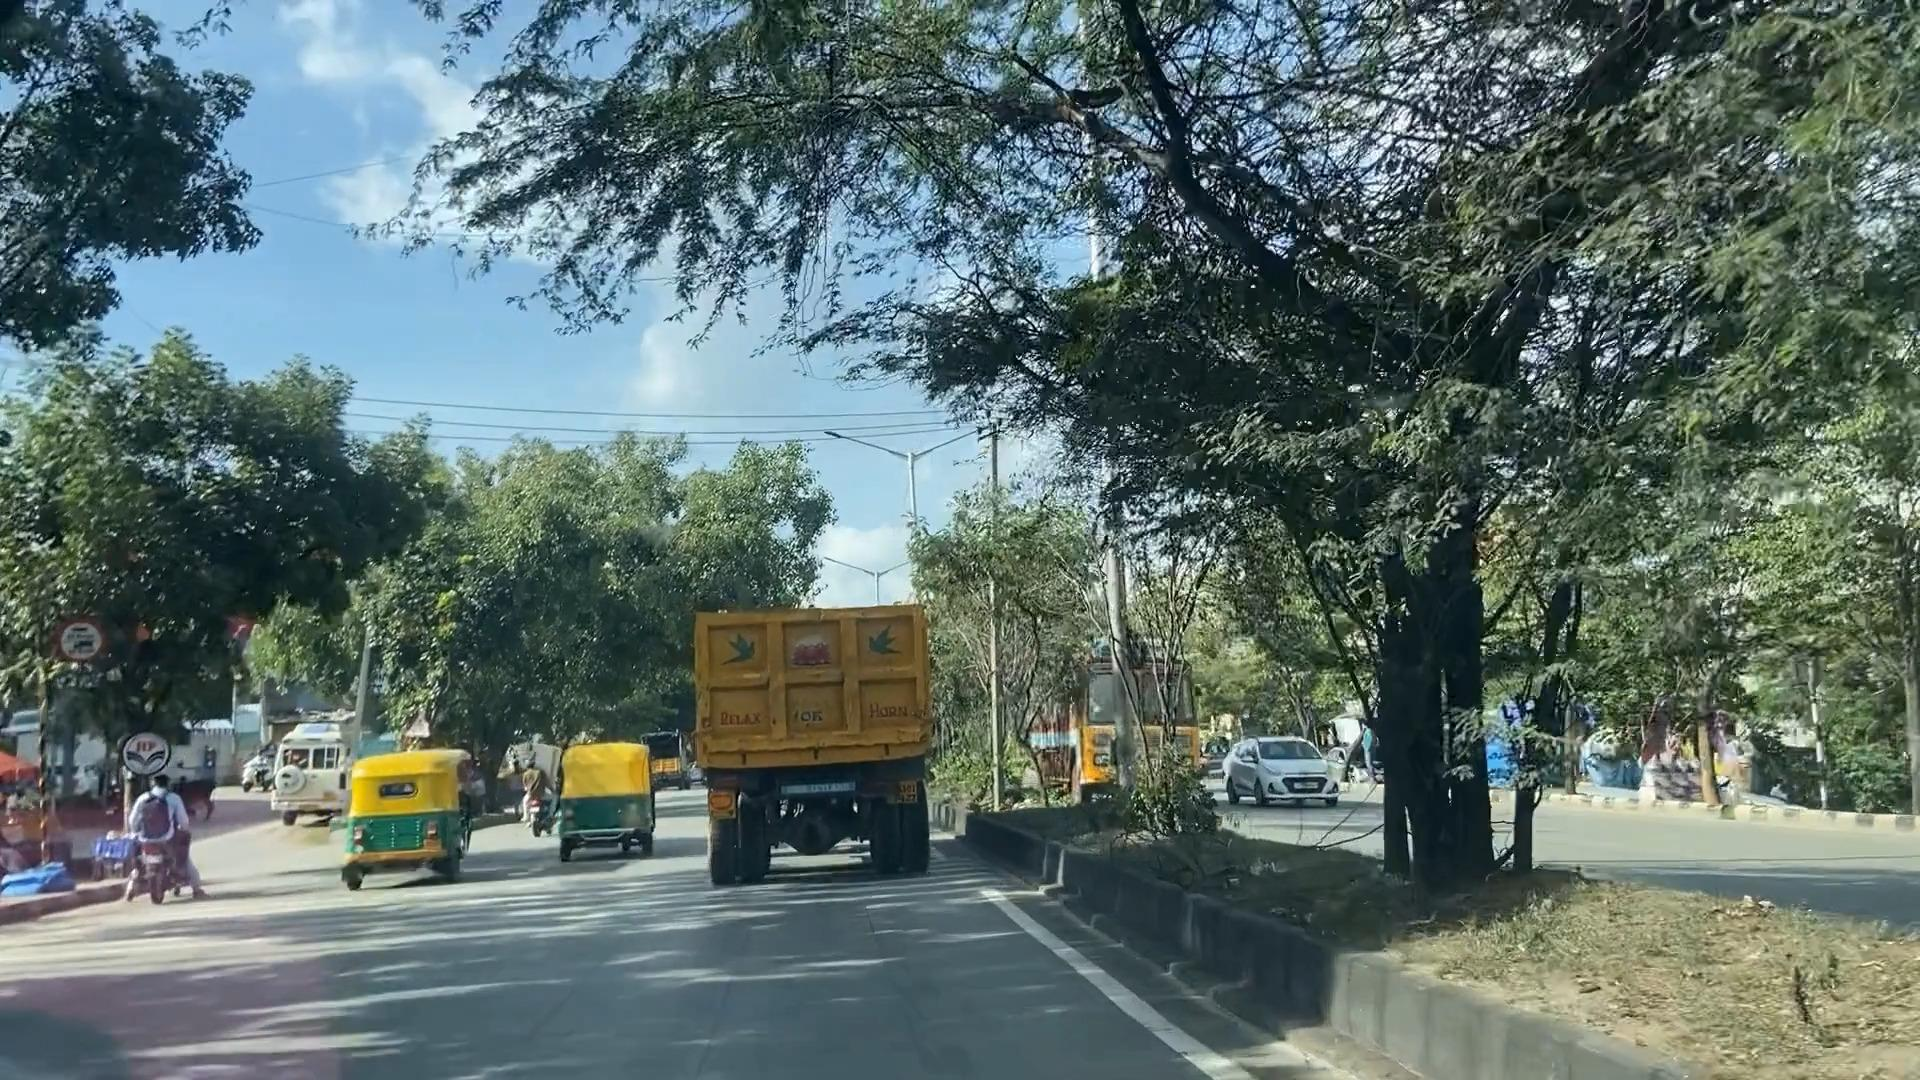HMV: (704, 609, 928, 877)
LMV: (355, 744, 489, 893), (547, 738, 662, 860), (129, 775, 204, 907)
